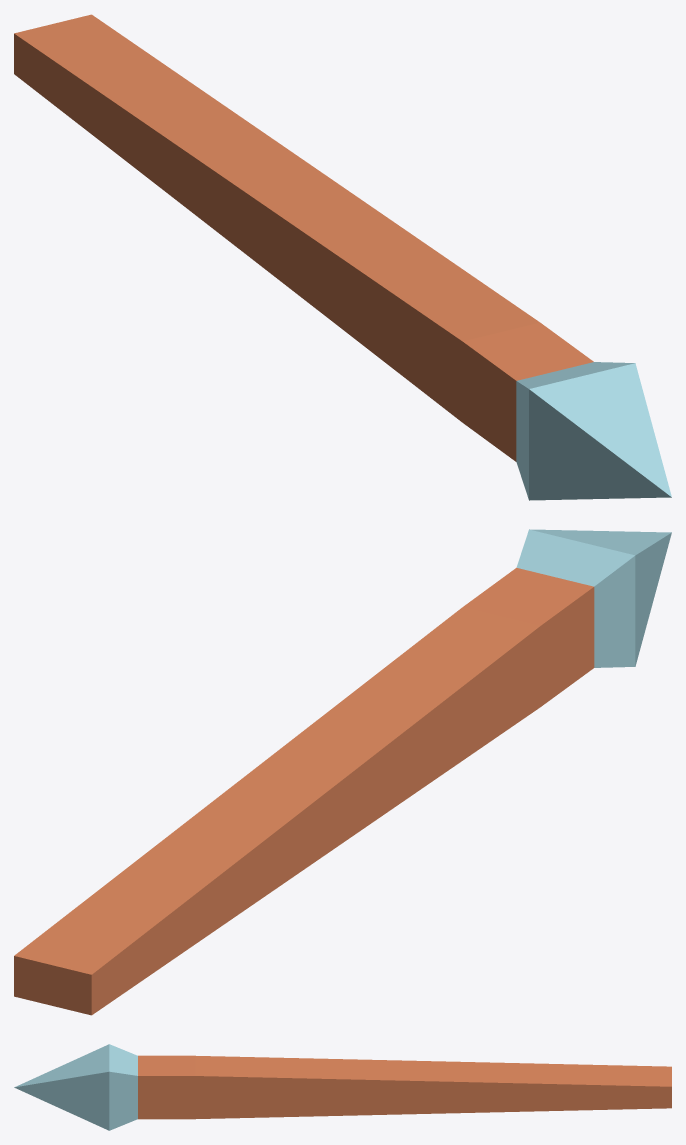
Rendered from SoloLanza.fbx.
The picture shows the model from 3 angles, top to bottom: view 1: azimuth 30°, elevation 25°; view 2: azimuth 150°, elevation 25°; view 3: azimuth 270°, elevation 25°; orthographic projection. The views are drawn at different scales.
Parts seen in each view (by area): view 1: arrow; view 2: arrow; view 3: arrow.
Part boxes in pixels (x1,y1,x2,y2): arrow: (14, 14, 671, 500); arrow: (14, 529, 671, 1015); arrow: (14, 1044, 671, 1130).
Size of the model in its own units: 2.7 by 2.7 by 27.17.
